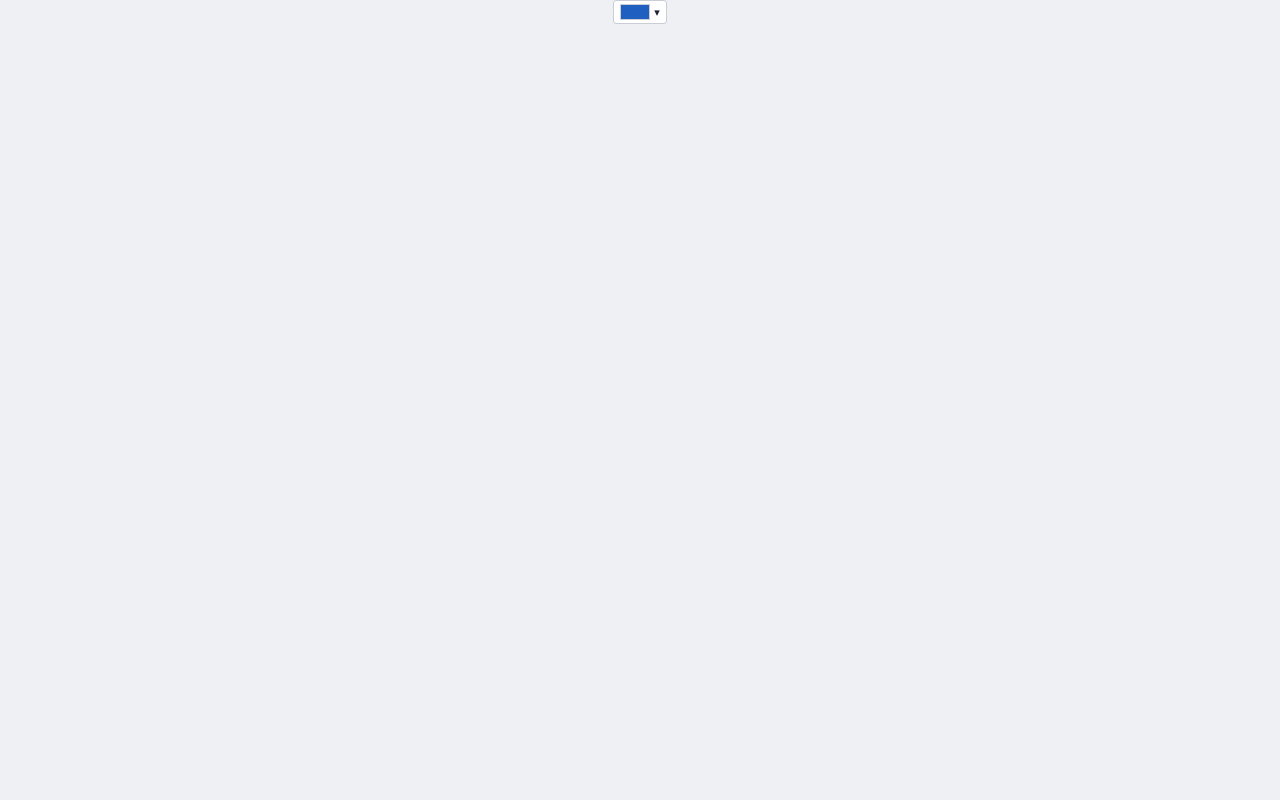
it: the colours of the worksheet and the eyedropper › offers the colours the worksheet already uses and a click takes one
The image size is (1280, 800).
Later steps or results of the test are not shown.
Click the button named "Line color": coordinates (640, 12) [613,0,667,24]
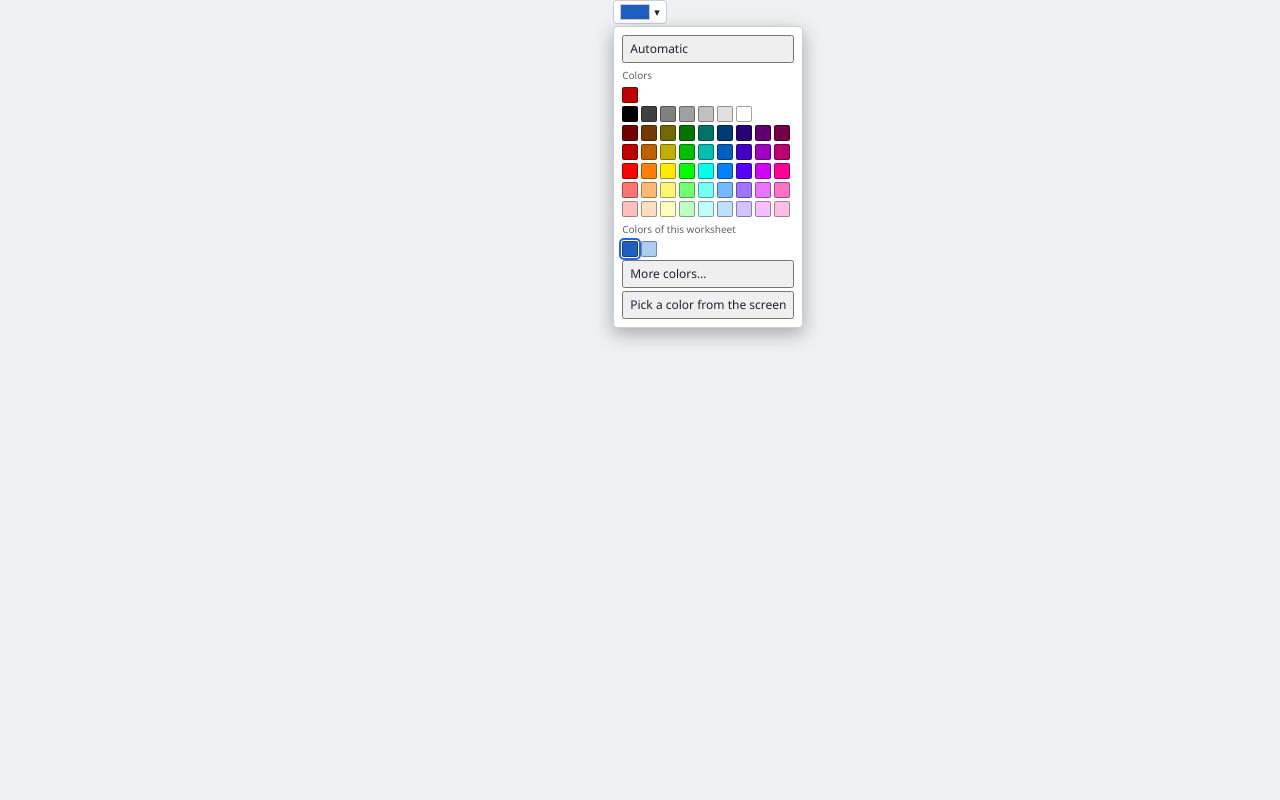
Expected: the text "Colors of this worksheet" is shown, [622,222,736,236]
